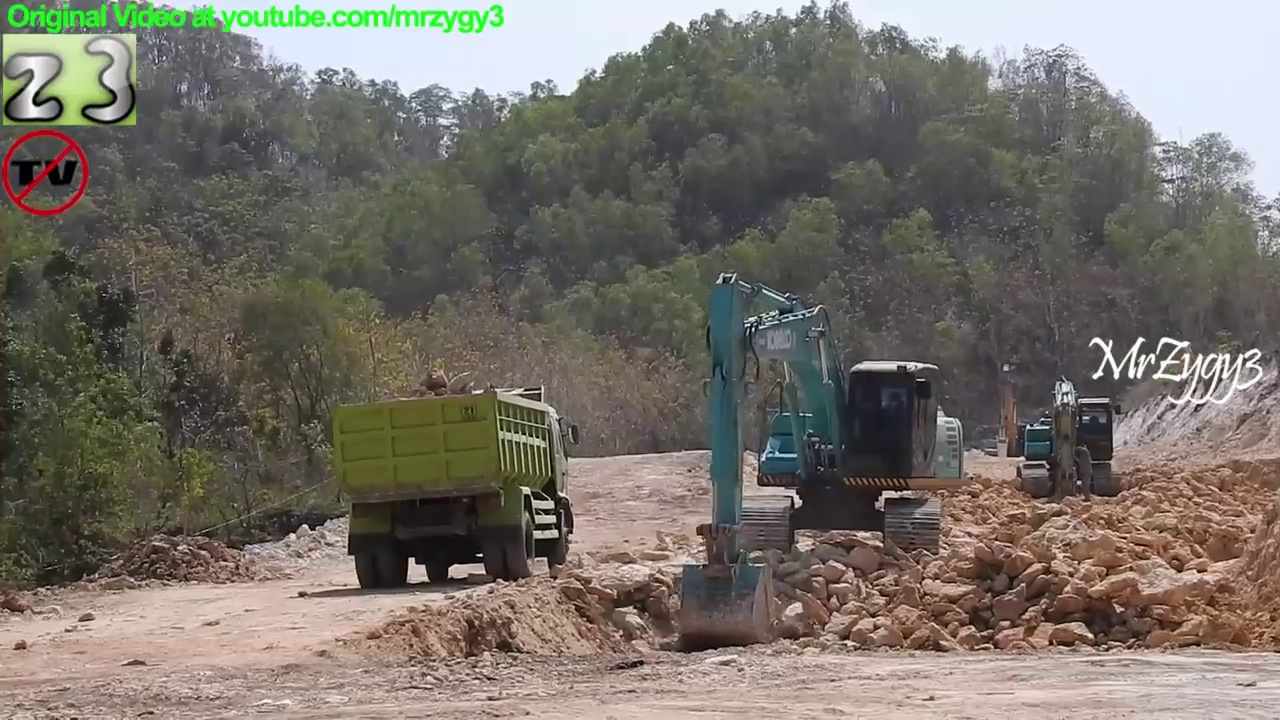excavator: (674, 267, 969, 658), (974, 358, 1051, 468)
excavator breaker: (1015, 372, 1124, 505)
truck: (327, 382, 585, 592)
worker: (1067, 437, 1106, 507)
